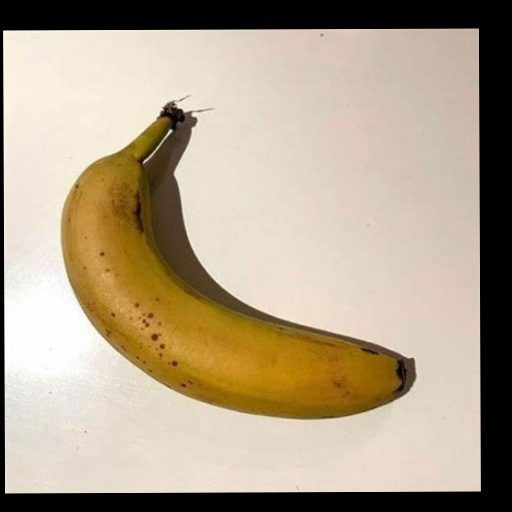fruit: (62, 102, 405, 418)
